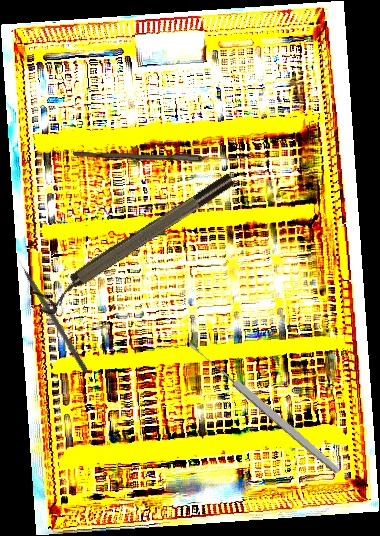Fixation Ring: (30, 169, 243, 319)
Pusher: (11, 249, 90, 374)
Surgical Spoon: (186, 338, 343, 477), (72, 151, 247, 163)
